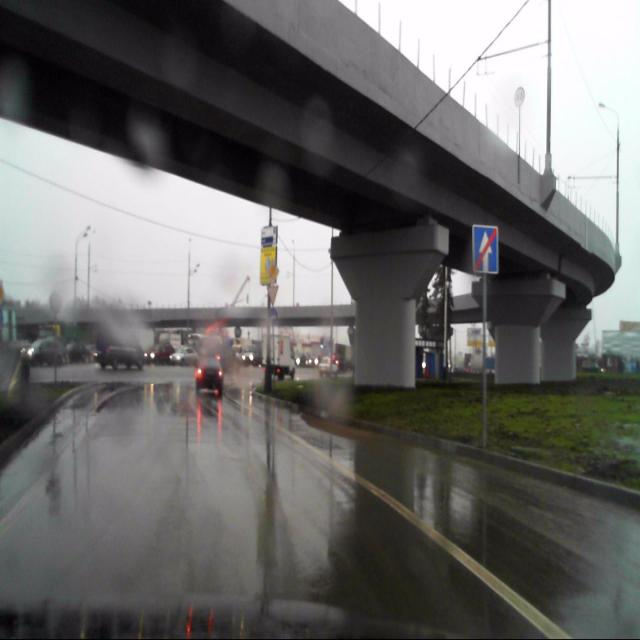road sign: (473, 227, 498, 274), (267, 261, 279, 284), (266, 286, 278, 307)
